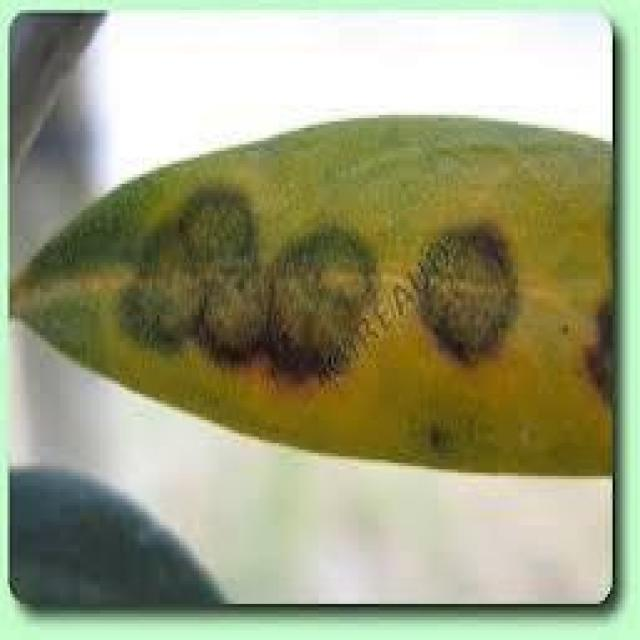Peacock Eye: (10, 118, 610, 469)
